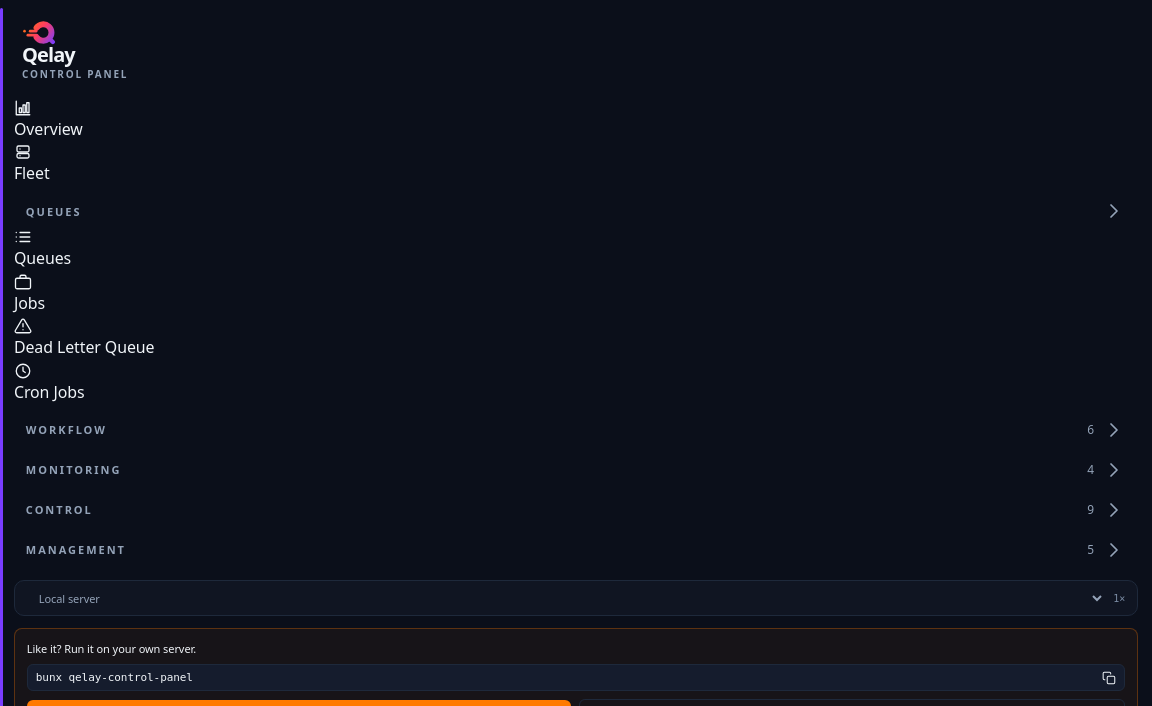
Scenario: Sidebar › toggling opens and closes a group
Click the button "Control 9".
click(59, 510)  # box [14,494,1138,524]
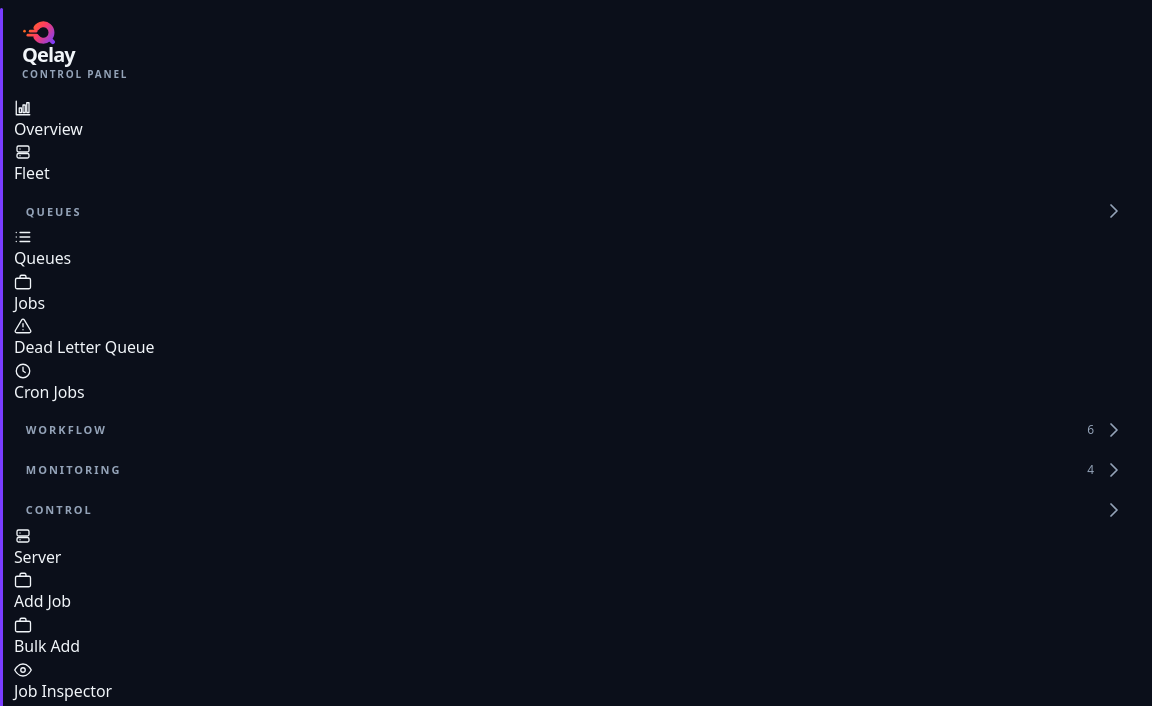
Expected: the button "Control" is expanded
Expected: the link to "/server" is shown, [14,526,61,568]
Click the button "Control".
click(59, 510)  # box [14,494,1138,524]
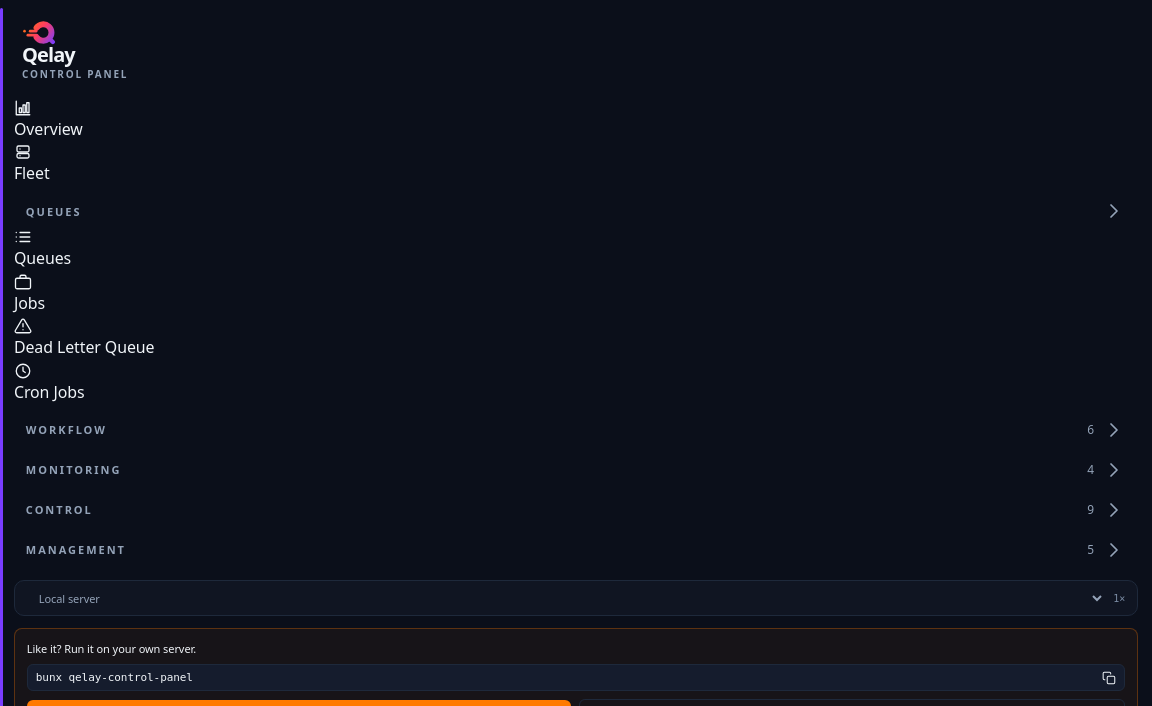
Expected: the link to "/server" is gone
